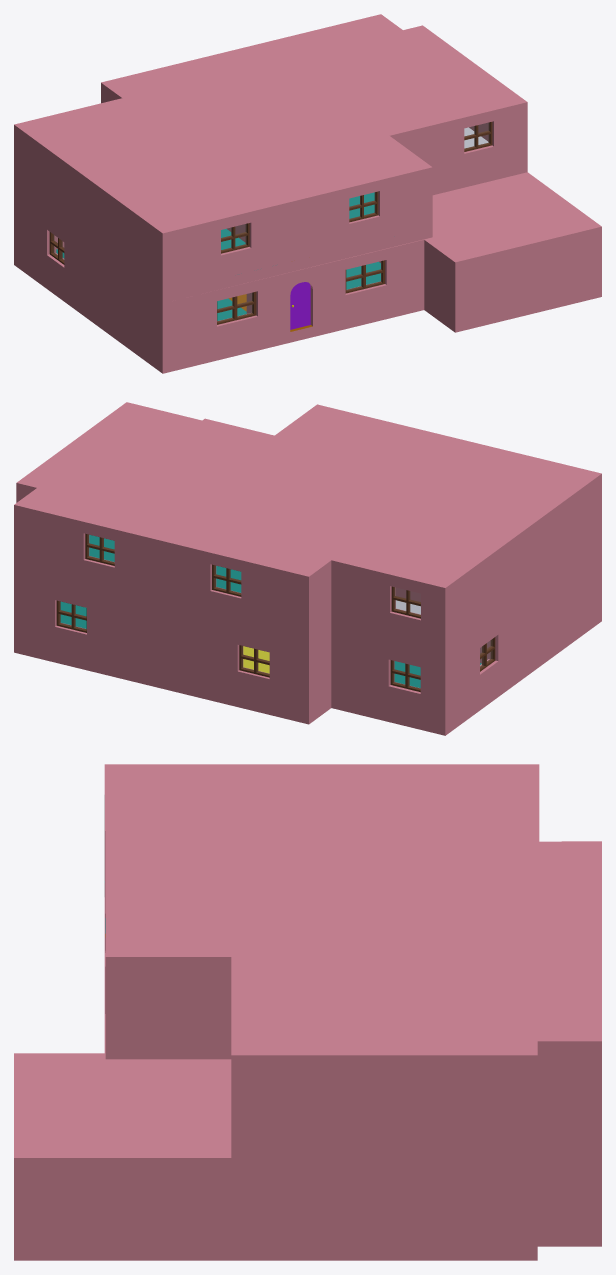
The model's file is SimpsonsHouse4.fbx.
3 views of the same model, one above another, from view 1: azimuth 30°, elevation 25°; view 2: azimuth 150°, elevation 25°; view 3: azimuth 270°, elevation 25° (orthographic). The views are drawn at different scales.
Visible parts, largest first — view 1: Roof2, Walls2, Walls1, Roof1, Floor1, Floor2, Window5, Window6, DoorFinal, Window7, Window8, Window11; view 2: Roof2, Walls2, Walls1, Floor1, Floor2, Window3, Window2, Window1, Window12, Window10, Window9; view 3: Roof2, Walls2, Walls1, Roof1, Floor1, Floor2.
Boxes of the visible parts, box(x1,y1,x2,y2) form: Roof2: box(18, 14, 525, 232); Walls2: box(14, 14, 527, 292); Walls1: box(14, 172, 601, 362); Roof1: box(243, 173, 599, 283); Floor1: box(14, 249, 601, 373); Floor2: box(14, 127, 527, 303); Window5: box(217, 291, 256, 324); Window6: box(345, 260, 384, 293); DoorFinal: box(290, 282, 310, 329); Window7: box(349, 191, 378, 222); Window8: box(221, 223, 249, 253); Window11: box(464, 122, 492, 151); Roof2: box(16, 402, 600, 587); Walls2: box(14, 402, 601, 650); Walls1: box(14, 418, 601, 724); Floor1: box(14, 601, 601, 735); Floor2: box(14, 535, 601, 661); Window3: box(56, 600, 86, 632); Window2: box(239, 645, 269, 677); Window1: box(390, 660, 420, 691); Window12: box(391, 586, 420, 618); Window10: box(85, 533, 114, 565); Window9: box(212, 564, 241, 596); Roof2: box(104, 764, 601, 1055); Walls2: box(104, 764, 601, 1142); Walls1: box(14, 897, 601, 1245); Roof1: box(14, 907, 231, 1157); Floor1: box(14, 1231, 601, 1260); Floor2: box(104, 882, 601, 1157).
Bounding box in the file's own units: 1685 × 554 × 1438.
